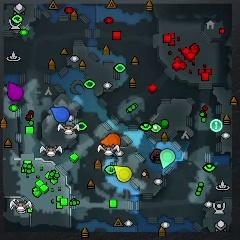Other: (210, 119, 223, 133)
p1: (50, 107, 70, 122)
p2: (160, 148, 176, 169)
p3: (8, 82, 23, 101)
p4: (113, 166, 132, 183)
p5: (100, 133, 121, 147)
